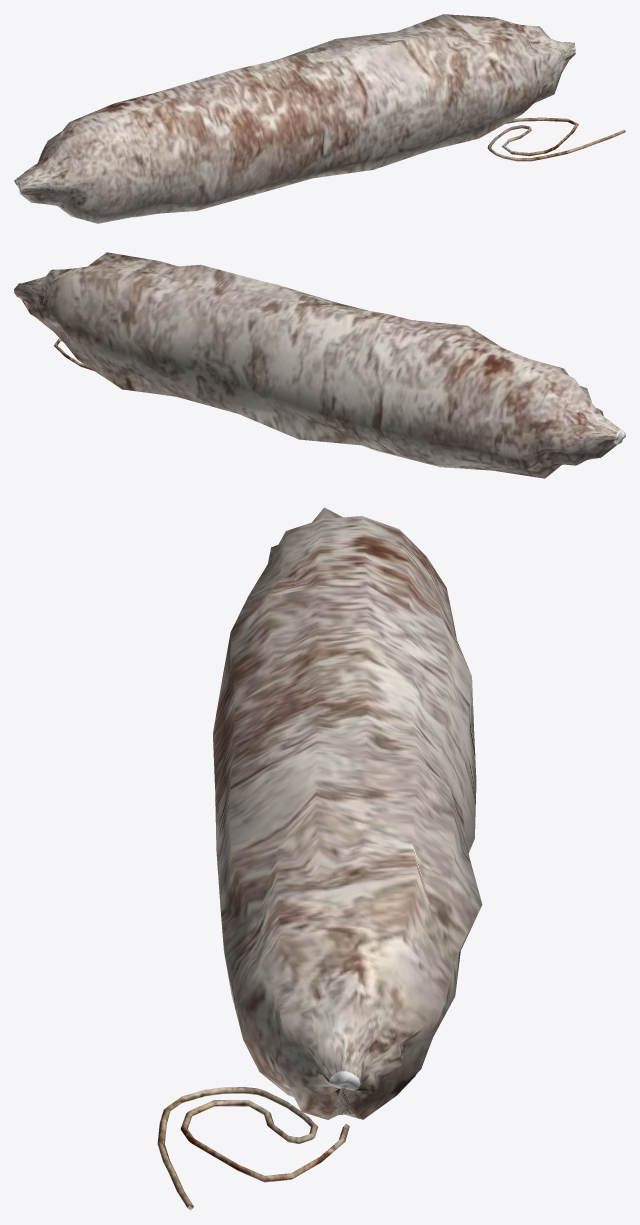
Rendered from SM_Saucisson_01.fbx.
3 views of the same model, one above another, from view 1: azimuth 30°, elevation 25°; view 2: azimuth 150°, elevation 25°; view 3: azimuth 270°, elevation 25° (orthographic). The views are drawn at different scales.
Visible parts, largest first — view 1: Cylinder, BézierCurve; view 2: Cylinder; view 3: Cylinder, BézierCurve.
Part boxes in pixels (left/top/right/bottom): Cylinder: left=14, top=14, right=575, bottom=223; BézierCurve: left=487, top=117, right=625, bottom=161; Cylinder: left=14, top=252, right=625, bottom=478; Cylinder: left=213, top=507, right=482, bottom=1119; BézierCurve: left=157, top=1087, right=349, bottom=1210.
Size of the model in its own units: 361 by 73.18 by 89.14.
